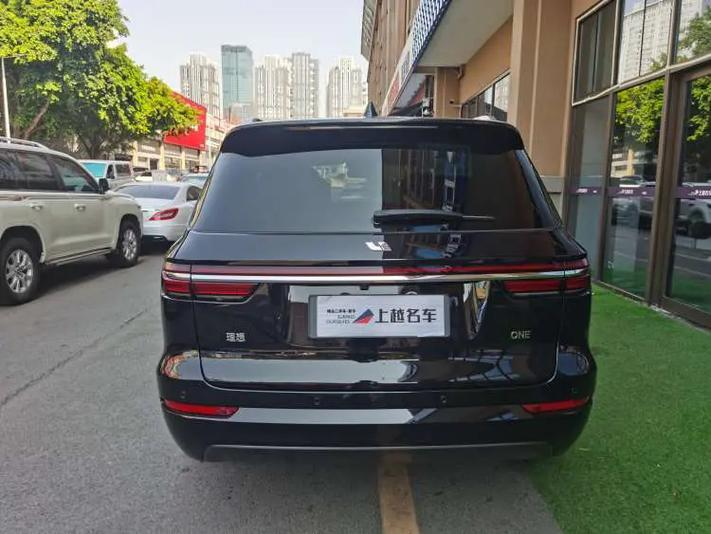Li Auto: (366, 240, 391, 250)
